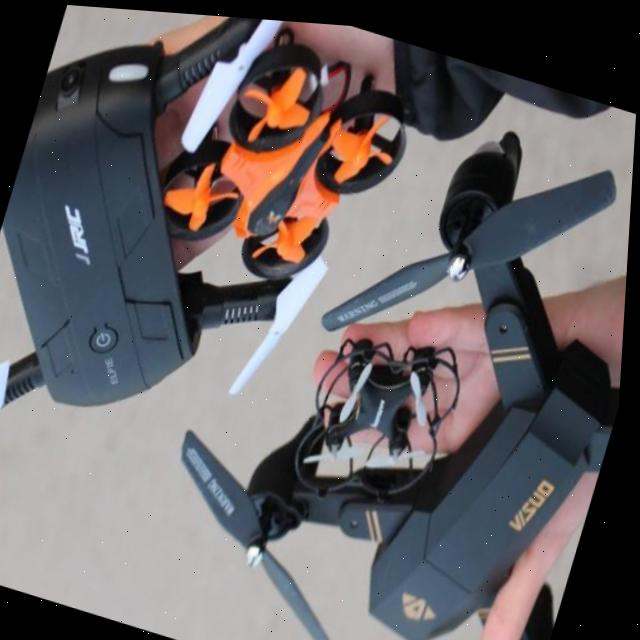drones: (124, 40, 639, 640), (0, 0, 399, 602), (125, 8, 428, 319)
